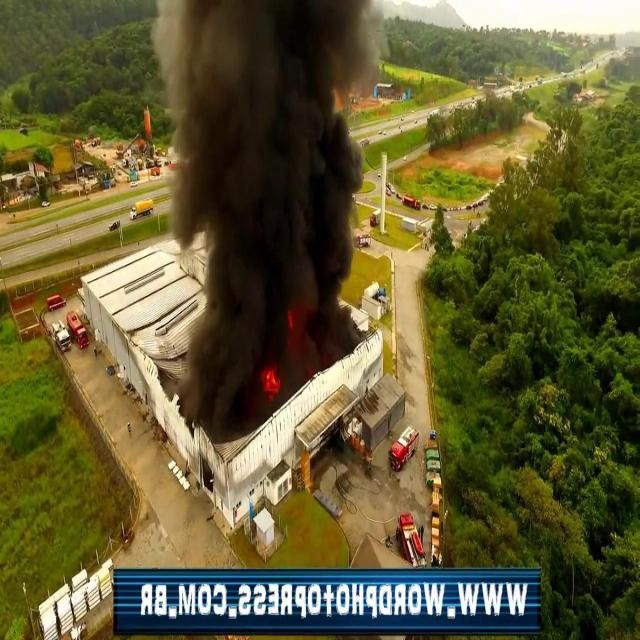Fire: (258, 361, 282, 401)
